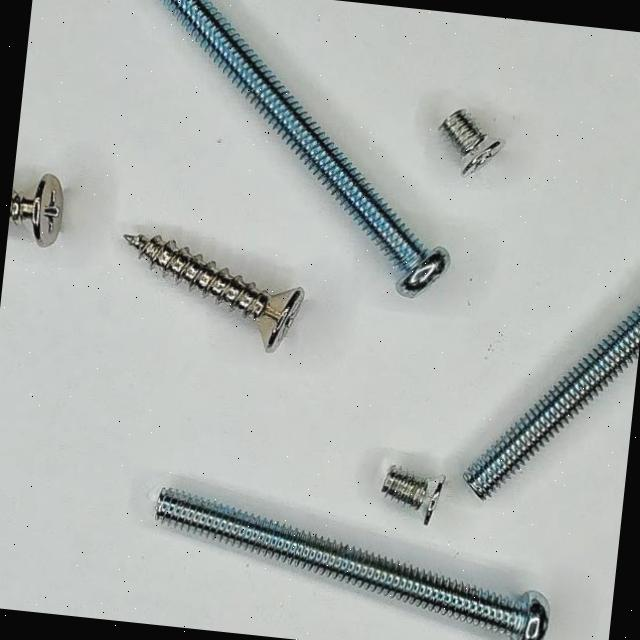Screw: (164, 0, 450, 297), (155, 489, 549, 640), (465, 306, 640, 500), (124, 235, 303, 353), (439, 108, 505, 175), (9, 173, 63, 247), (381, 466, 447, 526)
